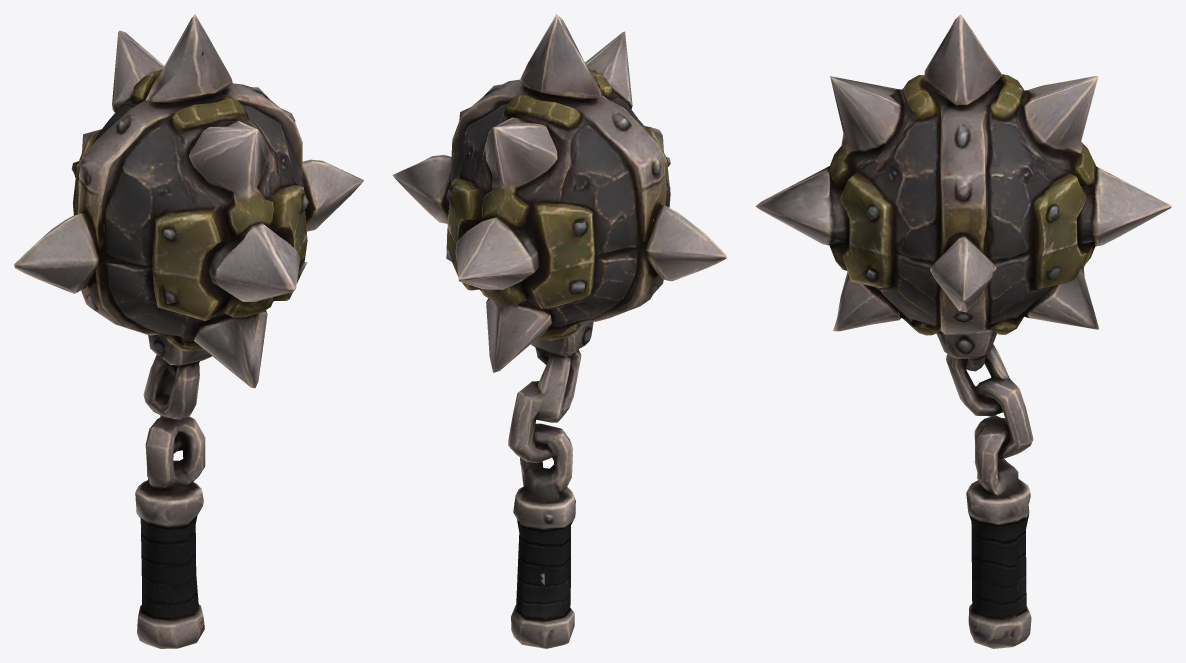
The model's file is charlie-tail-mace.glb.
3 renders of one model, left to right at view 1: azimuth 30°, elevation 25°; view 2: azimuth 150°, elevation 25°; view 3: azimuth 270°, elevation 25°, orthographic. The views are drawn at different scales.
Visible parts, largest first — view 1: model; view 2: model; view 3: model.
Boxes of the visible parts, x1,y1,x2,y2 form: model: [14, 14, 363, 648]; model: [392, 14, 726, 648]; model: [755, 14, 1171, 648].
Bounding box in the file's own units: 0.5733 × 0.9999 × 0.6015.
Materials: 1 (1 with a texture image).
